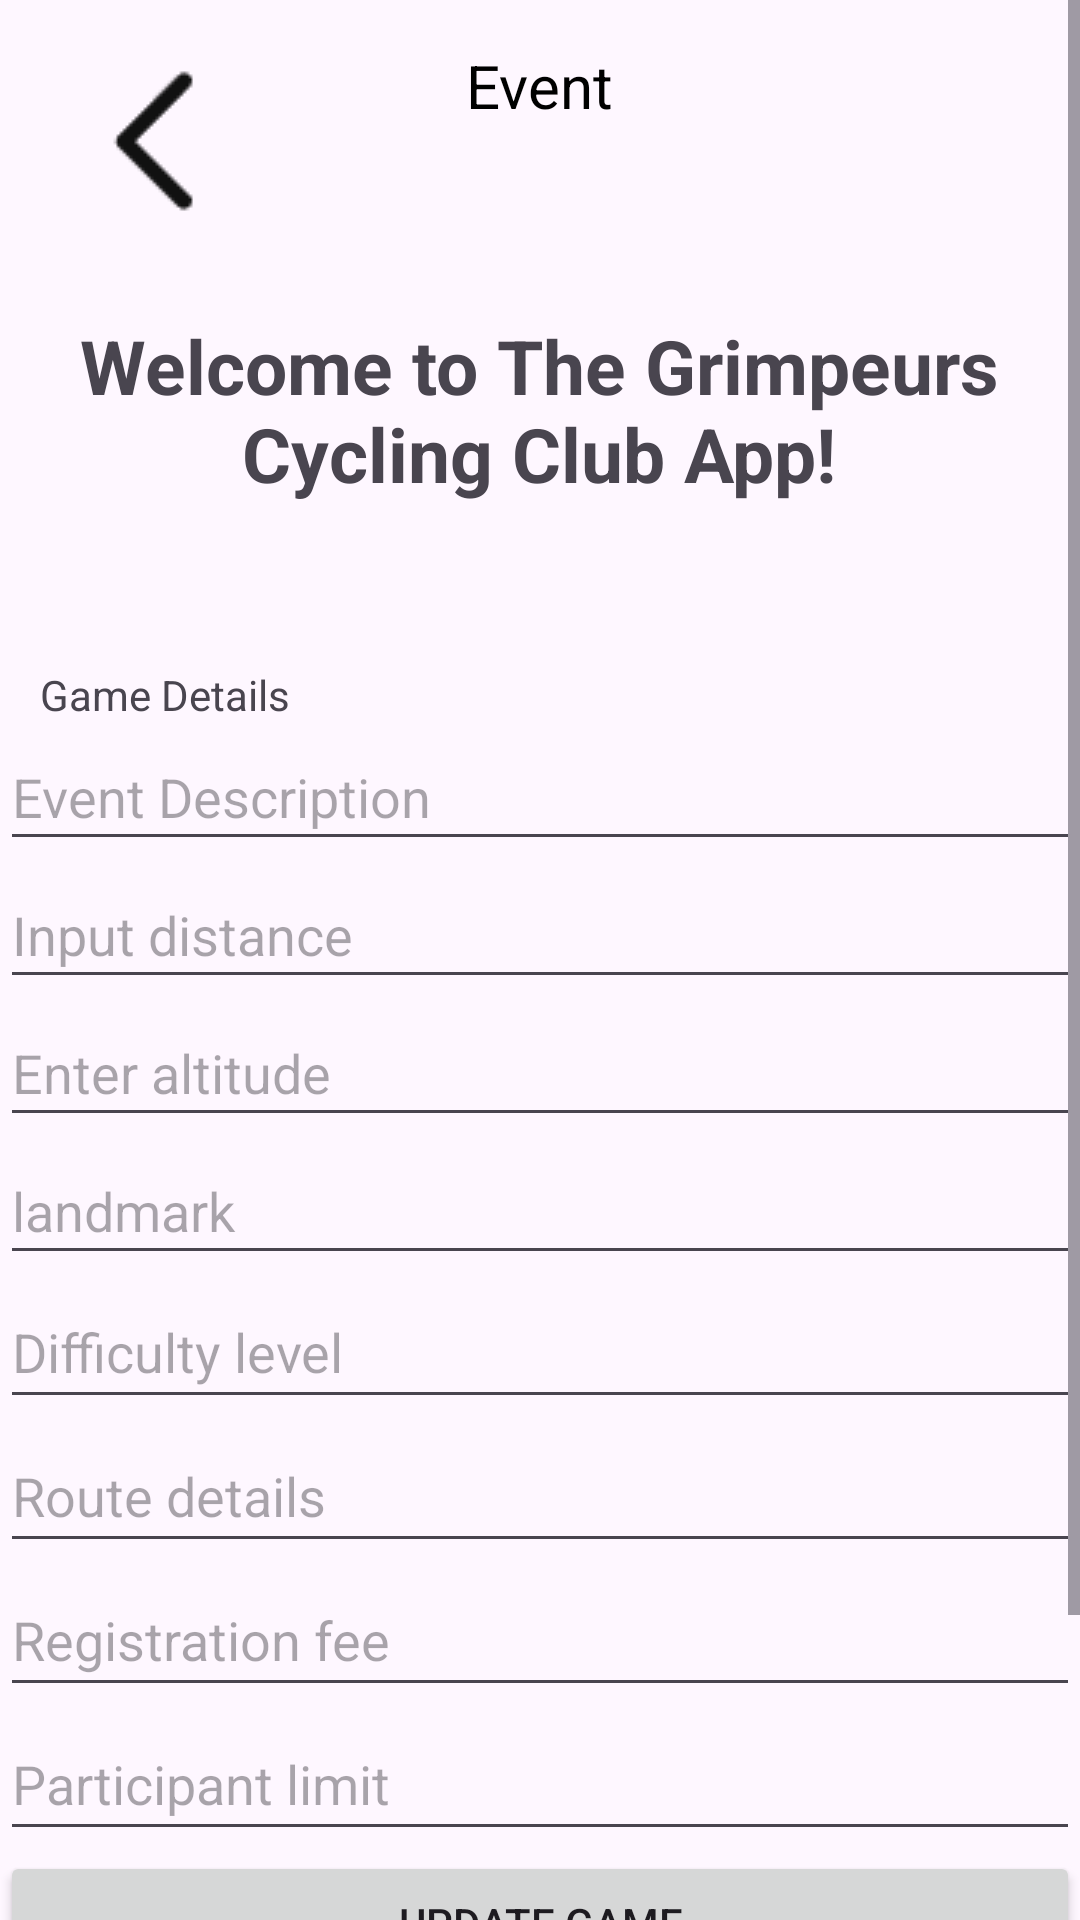

Screen size 1080 × 1920. Icon name, then its box in pixels as {"x1": x1, "y1": y1, "x2": x2, "y2": y2}:
back: {"x1": 114, "y1": 71, "x2": 193, "y2": 211}
